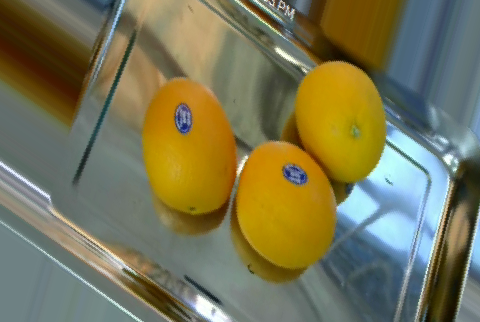Orange: (234, 138, 339, 271), (140, 75, 236, 214), (295, 60, 387, 186)
